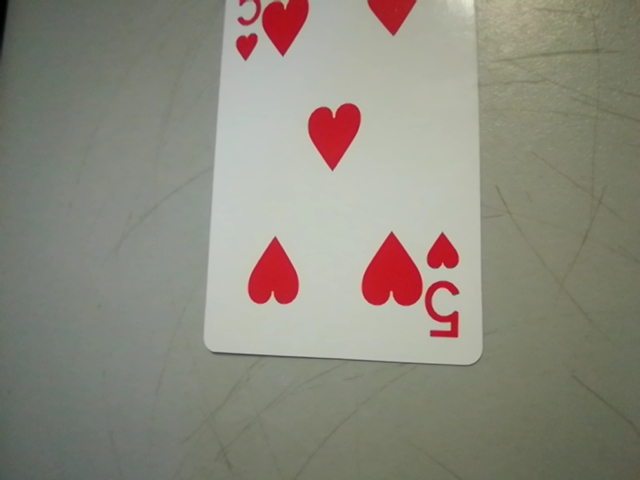hx 5: (422, 229, 476, 352)
